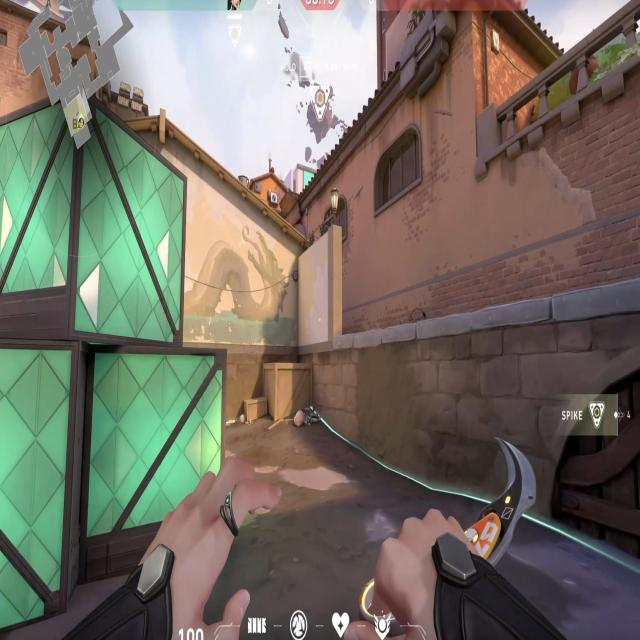B_Site_Box: (0, 82, 228, 640)
Throwables: (370, 116, 426, 222), (312, 190, 353, 236)
